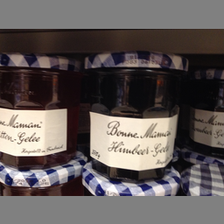jam: (84, 51, 189, 181), (1, 53, 80, 167)
